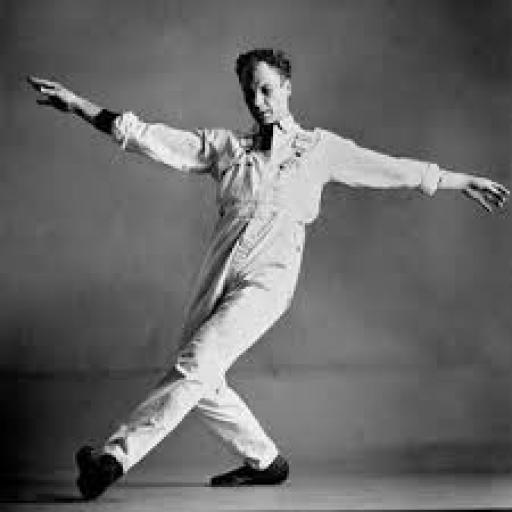dancing: (22, 43, 510, 505)
